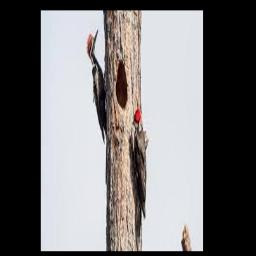Woodpecker: (86, 27, 107, 142), (131, 108, 147, 250)
